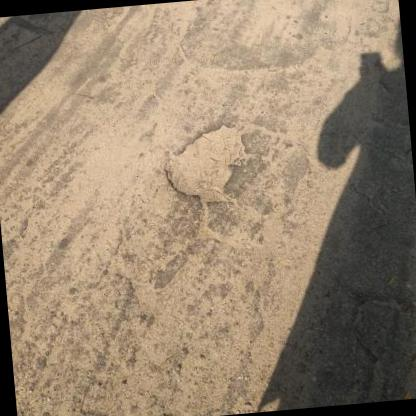pothole: (157, 119, 256, 208)
